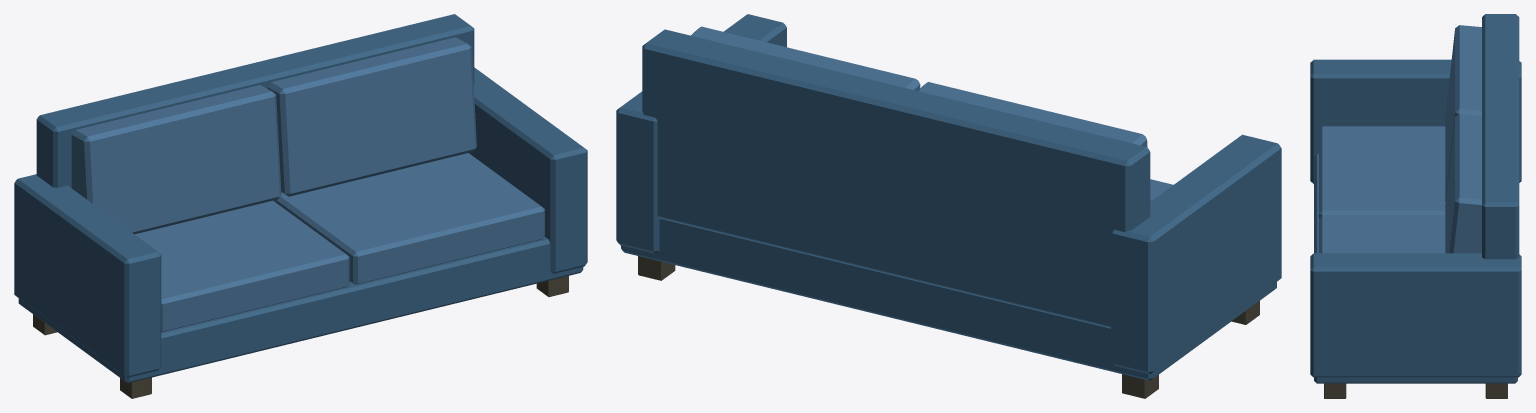
Rendered from sofa.glb.
3 renders of one model, left to right at view 1: azimuth 30°, elevation 25°; view 2: azimuth 150°, elevation 25°; view 3: azimuth 270°, elevation 25°, orthographic. The views are drawn at different scales.
Parts seen in each view (by area): view 1: Upholstered base; view 2: Upholstered base; view 3: Upholstered base.
Boxes of the visible parts, box(x1,y1,x2,y2) form: Upholstered base: box(14, 14, 587, 398); Upholstered base: box(616, 14, 1281, 398); Upholstered base: box(1310, 14, 1521, 398).
Size of the model in its own units: 2 by 0.85 by 0.85.
